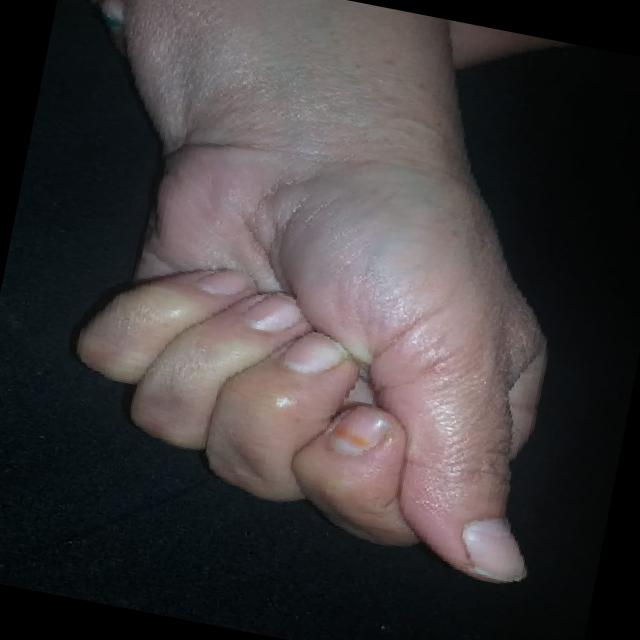Nail: (461, 517, 525, 581), (329, 405, 390, 456), (282, 331, 347, 373), (242, 293, 302, 331), (196, 269, 253, 294)
